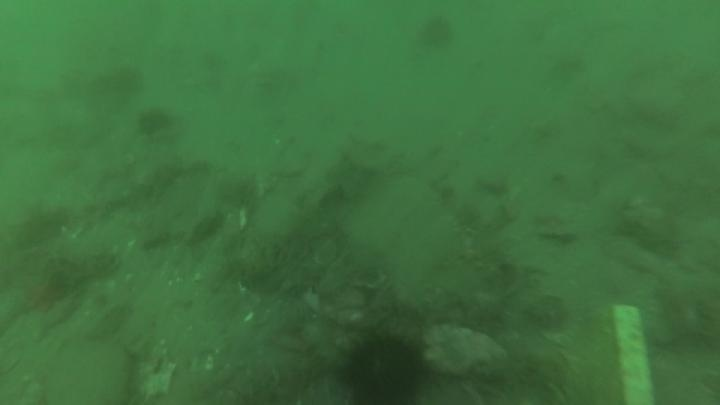echinus: (339, 333, 430, 404), (415, 14, 457, 53), (105, 63, 146, 101), (135, 106, 176, 139)
